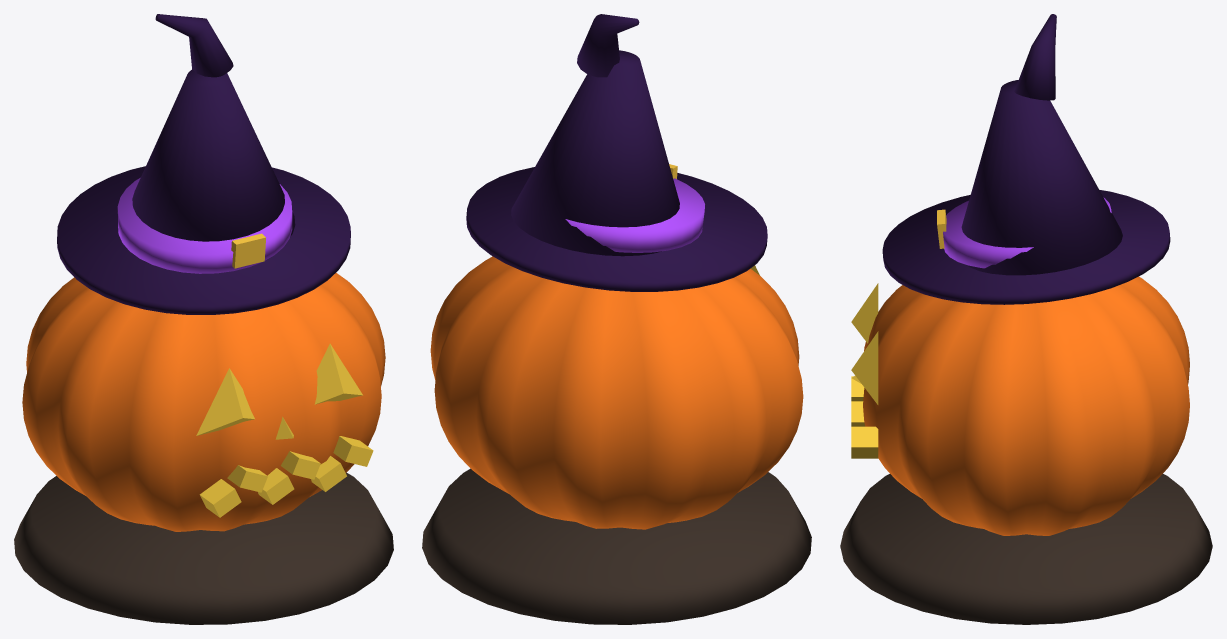
Rendered from P_GreatPumpkin.fbx.
3 renders of one model, left to right at view 1: azimuth 30°, elevation 25°; view 2: azimuth 150°, elevation 25°; view 3: azimuth 270°, elevation 25°, orthographic. The views are drawn at different scales.
Parts seen in each view (by area): view 1: P_GreatPumpkin__Pumpkin, P_GreatPumpkin__Hat, P_GreatPumpkin__Base, P_GreatPumpkin__Glow, P_GreatPumpkin__Band, P_GreatPumpkin__Buckle; view 2: P_GreatPumpkin__Pumpkin, P_GreatPumpkin__Base, P_GreatPumpkin__Hat, P_GreatPumpkin__Band; view 3: P_GreatPumpkin__Pumpkin, P_GreatPumpkin__Base, P_GreatPumpkin__Hat, P_GreatPumpkin__Glow, P_GreatPumpkin__Band.
Boxes of the visible parts, left/top/right/bottom form: P_GreatPumpkin__Pumpkin: left=22, top=273, right=385, bottom=531; P_GreatPumpkin__Hat: left=57, top=14, right=350, bottom=314; P_GreatPumpkin__Base: left=14, top=472, right=393, bottom=624; P_GreatPumpkin__Glow: left=196, top=343, right=373, bottom=517; P_GreatPumpkin__Band: left=117, top=177, right=292, bottom=273; P_GreatPumpkin__Buckle: left=231, top=233, right=265, bottom=268; P_GreatPumpkin__Pumpkin: left=430, top=256, right=803, bottom=529; P_GreatPumpkin__Base: left=422, top=468, right=811, bottom=624; P_GreatPumpkin__Hat: left=466, top=14, right=767, bottom=291; P_GreatPumpkin__Band: left=565, top=178, right=704, bottom=252; P_GreatPumpkin__Pumpkin: left=863, top=276, right=1189, bottom=535; P_GreatPumpkin__Base: left=840, top=474, right=1212, bottom=624; P_GreatPumpkin__Hat: left=882, top=14, right=1170, bottom=304; P_GreatPumpkin__Glow: left=851, top=283, right=878, bottom=458; P_GreatPumpkin__Band: left=943, top=197, right=1111, bottom=268.
Size of the model in its own units: 22 by 33.68 by 22.
